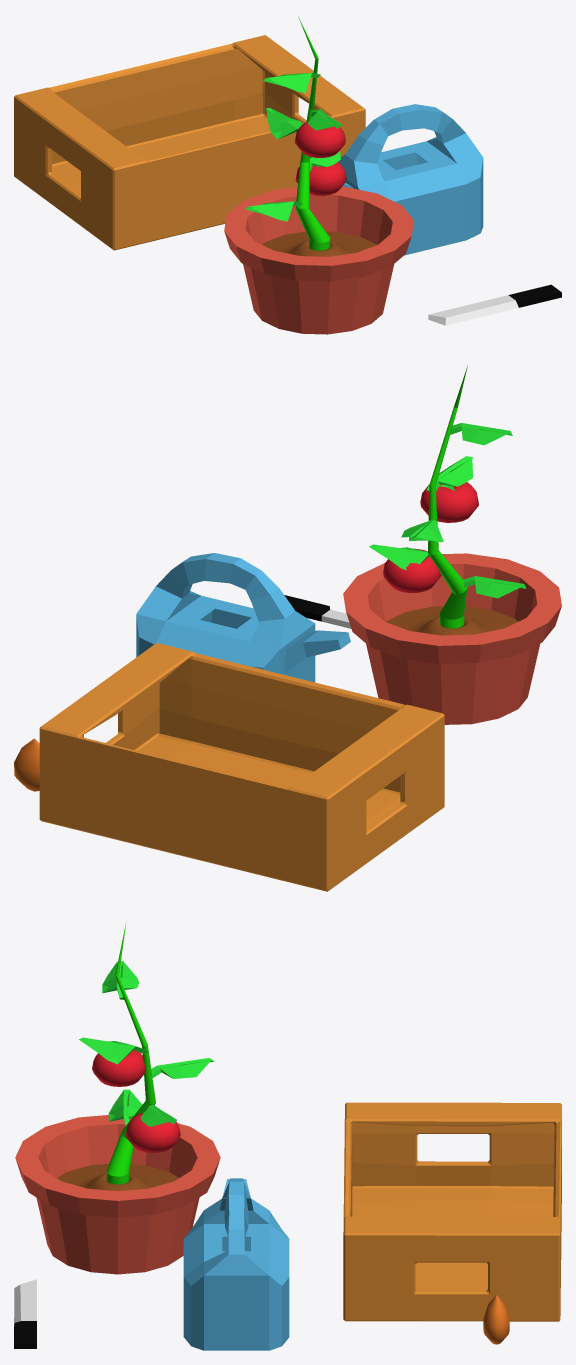
Rendered from tomato.fbx.
3 views of the same model, one above another, from view 1: azimuth 30°, elevation 25°; view 2: azimuth 150°, elevation 25°; view 3: azimuth 270°, elevation 25° (orthographic). The views are drawn at different scales.
Visible parts, largest first — view 1: boitte, pot, wateringcan, knif, plant, dirt, tomatobody2, tomatobody, leaf3, leaf, leaf5, leaf4; view 2: boitte, pot, wateringcan, plant, dirt, tomatobody2, tomatobody, seed, knif, leaf, leaf5, leaf2 (+1 smaller); view 3: boitte, pot, wateringcan, plant, dirt, knif, tomatobody, tomatobody2, seed, leaf4, leaf3, leaf5 (+1 smaller).
Part boxes in pixels (x1,y1,x2,y2): boitte: (14, 35, 365, 250); pot: (224, 186, 413, 334); wateringcan: (338, 104, 483, 255); knif: (428, 284, 561, 325); plant: (295, 16, 330, 250); dirt: (262, 231, 376, 256); tomatobody2: (294, 121, 345, 157); tomatobody: (295, 161, 346, 195); leaf3: (266, 108, 302, 139); leaf: (245, 201, 302, 221); leaf5: (263, 73, 320, 92); leaf4: (307, 109, 342, 130); boitte: (39, 643, 444, 891); pot: (343, 553, 561, 724); wateringcan: (136, 553, 350, 682); plant: (428, 365, 467, 628); dirt: (385, 606, 517, 635); tomatobody2: (420, 482, 478, 522); tomatobody: (383, 548, 441, 592); seed: (14, 738, 39, 791); knif: (284, 595, 351, 628); leaf: (463, 576, 526, 598); leaf5: (450, 423, 512, 445); leaf2: (369, 544, 430, 570); boitte: (343, 1102, 561, 1321); pot: (15, 1115, 220, 1274); wateringcan: (183, 1178, 289, 1350); plant: (106, 922, 155, 1184); dirt: (57, 1163, 178, 1191); knif: (14, 1279, 36, 1348); tomatobody: (125, 1113, 180, 1152); tomatobody2: (92, 1050, 145, 1086); seed: (483, 1295, 509, 1344); leaf4: (79, 1037, 147, 1064); leaf3: (151, 1058, 214, 1078); leaf5: (102, 961, 138, 999).
Bounding box in the file's own units: 1.48 × 1.38 × 2.15.
